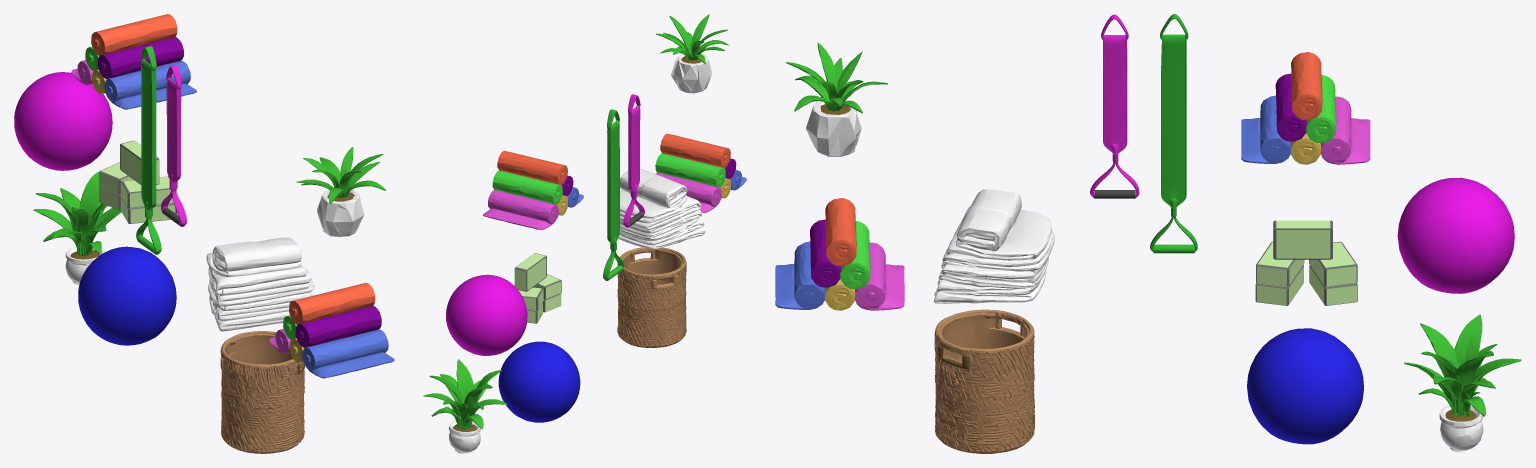
Rendered from YogaAssets.fbx.
3 views of the same model, side by side, from view 1: azimuth 30°, elevation 25°; view 2: azimuth 150°, elevation 25°; view 3: azimuth 270°, elevation 25° (orthographic). The views are drawn at different scales.
Parts seen in each view (by area): view 1: Woven Basket, Towel, model.009, Pilates Ball, Plant1, Plant2, Band2, Yoga Mat3, Band1, model.012, model.023, Yoga Mat (+6 smaller); view 2: Woven Basket, model.009, Pilates Ball, Towel, Plant1, Plant2, Band2, model.019, Band1, Yoga Mat, model.023, model.022 (+5 smaller); view 3: Woven Basket, model.009, Pilates Ball, Towel, Plant1, Band2, Plant2, Band1, Block1, Yoga Mat3, model.020, model.019 (+11 smaller).
Part boxes in pixels (bbox=[...]): Woven Basket: bbox=[220, 331, 304, 453]; Towel: bbox=[206, 237, 315, 331]; model.009: bbox=[78, 246, 176, 345]; Pilates Ball: bbox=[14, 72, 112, 170]; Plant1: bbox=[33, 171, 121, 284]; Plant2: bbox=[296, 147, 385, 236]; Band2: bbox=[136, 46, 161, 254]; Yoga Mat3: bbox=[302, 329, 394, 378]; Band1: bbox=[161, 65, 186, 226]; model.012: bbox=[295, 306, 381, 347]; model.023: bbox=[91, 14, 177, 55]; Yoga Mat: bbox=[289, 282, 375, 324]; Woven Basket: bbox=[617, 247, 686, 347]; model.009: bbox=[498, 341, 580, 422]; Pilates Ball: bbox=[446, 274, 527, 355]; Towel: bbox=[618, 168, 705, 249]; Plant1: bbox=[423, 359, 507, 453]; Plant2: bbox=[656, 14, 728, 93]; Band2: bbox=[603, 109, 623, 280]; model.019: bbox=[483, 190, 558, 230]; Band1: bbox=[623, 94, 644, 227]; Yoga Mat: bbox=[660, 133, 730, 167]; model.023: bbox=[497, 150, 567, 184]; model.022: bbox=[492, 170, 562, 204]; Woven Basket: bbox=[934, 309, 1034, 453]; model.009: bbox=[1247, 328, 1363, 444]; Pilates Ball: bbox=[1397, 177, 1514, 293]; Towel: bbox=[934, 189, 1054, 303]; Plant1: bbox=[1404, 314, 1521, 452]; Band2: bbox=[1150, 14, 1197, 253]; Plant2: bbox=[786, 42, 887, 156]; Band1: bbox=[1090, 14, 1139, 198]; Block1: bbox=[1273, 220, 1332, 259]; Yoga Mat3: bbox=[775, 241, 825, 309]; model.020: bbox=[1241, 95, 1290, 163]; model.019: bbox=[1320, 96, 1370, 164].
Bounding box in the file's own units: 83.03 × 226 × 378.
